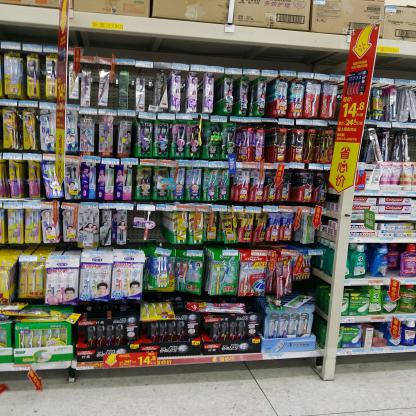Void: (153, 210, 164, 243), (126, 210, 136, 244)
